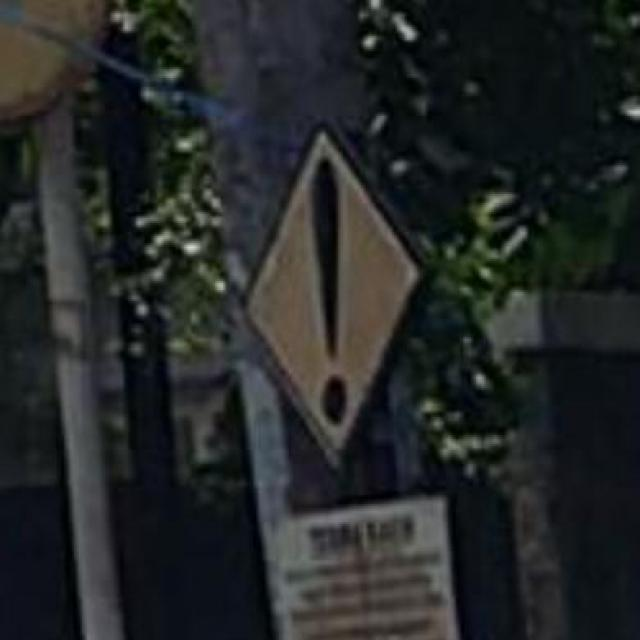traffic sign: (243, 127, 422, 470)
